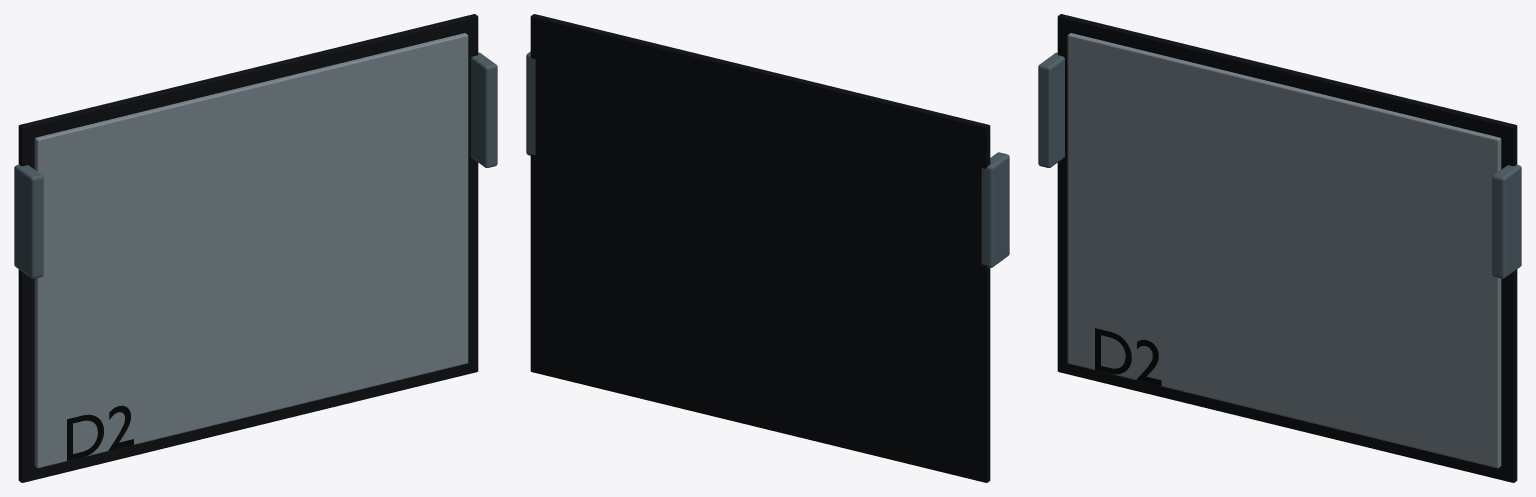
The model's file is slot_d2.obj.
The picture shows the model from 3 angles, left to right: view 1: azimuth 30°, elevation 25°; view 2: azimuth 150°, elevation 25°; view 3: azimuth 330°, elevation 25°; orthographic projection.
Visible parts, largest first — view 1: flex__slot_d2__insert, flex__slot_d2__recess, flex__slot_d2__locator, flex__slot_d2__locator.001, flex__slot_d2__id; view 2: flex__slot_d2__recess, flex__slot_d2__locator, flex__slot_d2__locator.001; view 3: flex__slot_d2__insert, flex__slot_d2__recess, flex__slot_d2__locator.001, flex__slot_d2__locator, flex__slot_d2__id.
Part boxes in pixels (x1,y1,x2,y2): flex__slot_d2__insert: [34, 33, 468, 468]; flex__slot_d2__recess: [18, 14, 478, 482]; flex__slot_d2__locator: [14, 164, 43, 278]; flex__slot_d2__locator.001: [471, 52, 497, 167]; flex__slot_d2__id: [67, 405, 133, 460]; flex__slot_d2__recess: [530, 14, 990, 482]; flex__slot_d2__locator: [981, 152, 1009, 267]; flex__slot_d2__locator.001: [526, 51, 535, 155]; flex__slot_d2__insert: [1067, 33, 1501, 468]; flex__slot_d2__recess: [1057, 14, 1517, 482]; flex__slot_d2__locator.001: [1492, 164, 1521, 278]; flex__slot_d2__locator: [1038, 52, 1064, 167]; flex__slot_d2__id: [1095, 328, 1161, 385].
Size of the model in its own units: 0.144 by 0.105 by 0.01.
